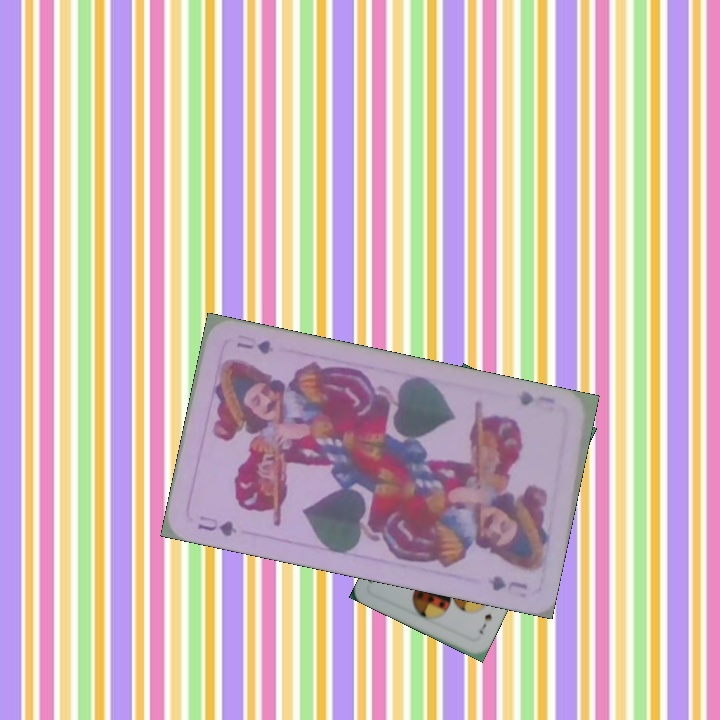GU: (193, 511, 239, 539), (513, 387, 557, 409)
S7: (475, 610, 495, 637)
